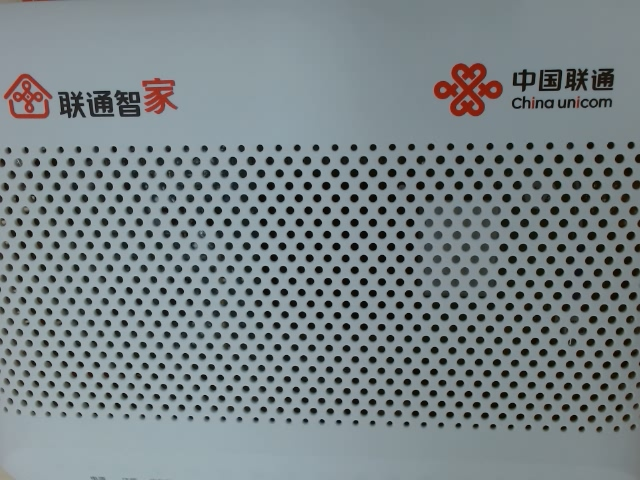AD_ChinaUnicom: (414, 36, 628, 129)
